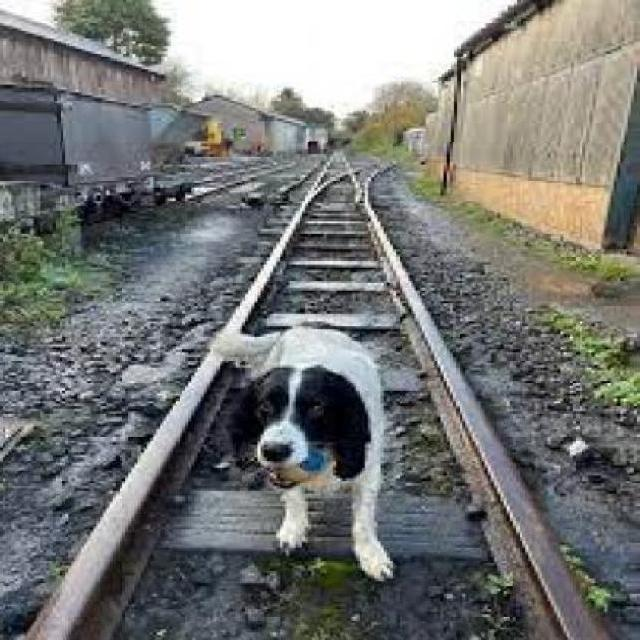rail: (7, 143, 632, 638)
